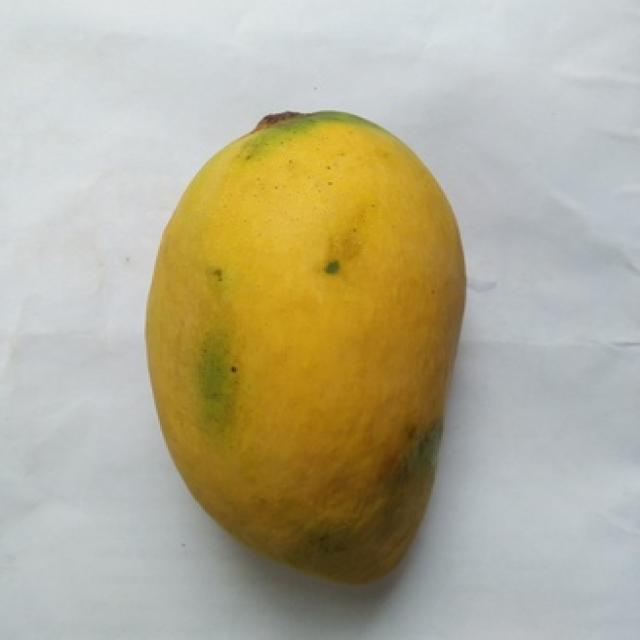Mango: (146, 115, 464, 581)
